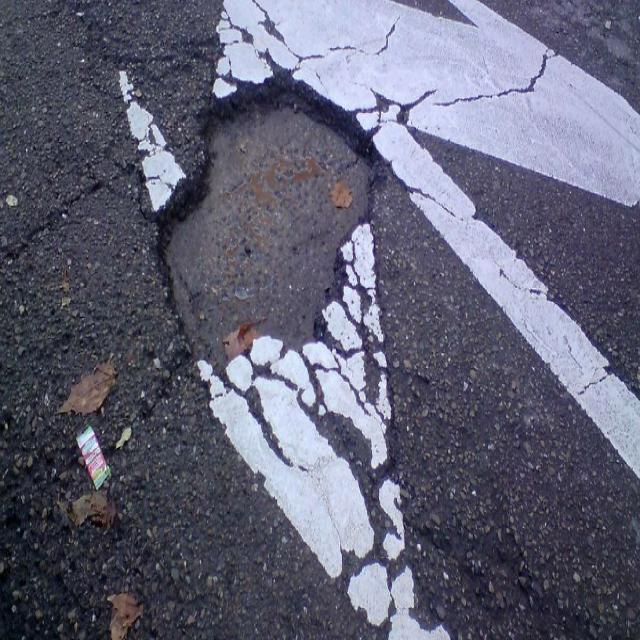Pothole: (140, 56, 406, 450)
